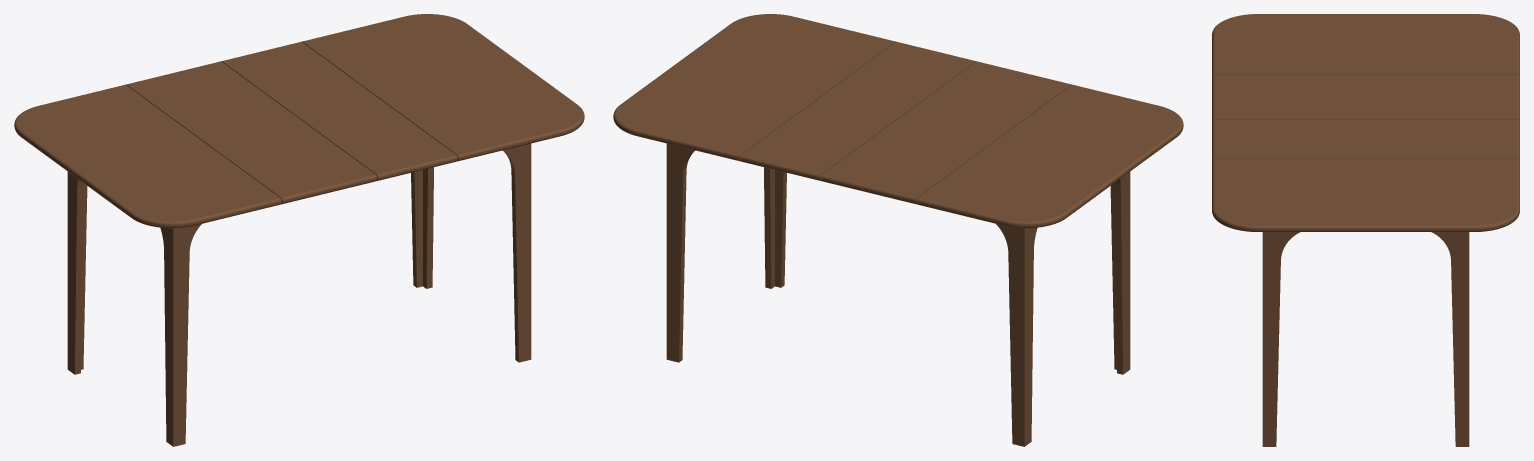
Rendered from family_table_w_leaf.glb.
3 views of the same model, side by side, from view 1: azimuth 30°, elevation 25°; view 2: azimuth 150°, elevation 25°; view 3: azimuth 270°, elevation 25° (orthographic). The views are drawn at different scales.
Parts seen in each view (by area): view 1: family_table_w_leaf; view 2: family_table_w_leaf; view 3: family_table_w_leaf.
Part boxes in pixels (x1,y1,x2,y2): family_table_w_leaf: (14, 14, 584, 446); family_table_w_leaf: (613, 14, 1183, 446); family_table_w_leaf: (1212, 14, 1519, 446).
Size of the model in its own units: 55 by 29 by 33.5.
